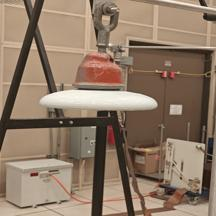insulator: (35, 47, 162, 121)
